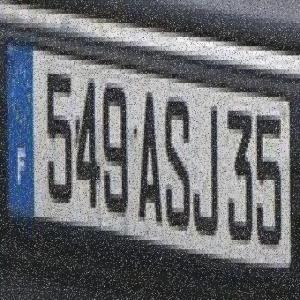Plate: (5, 24, 294, 280)
